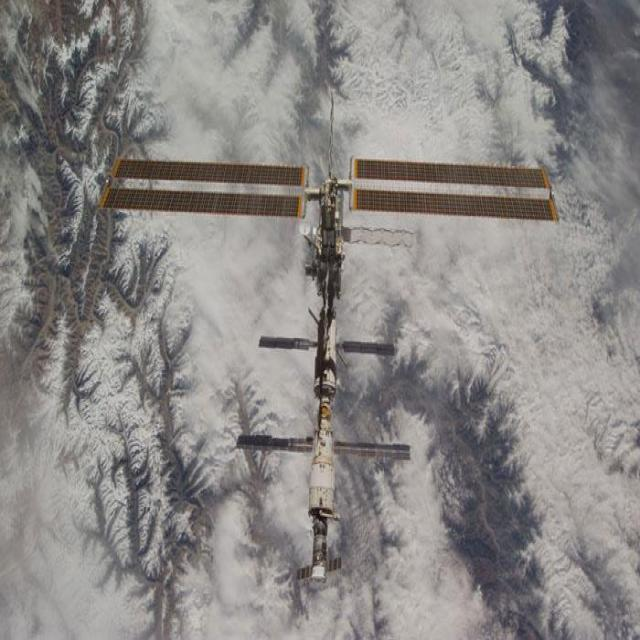satellite: (101, 157, 558, 579)
